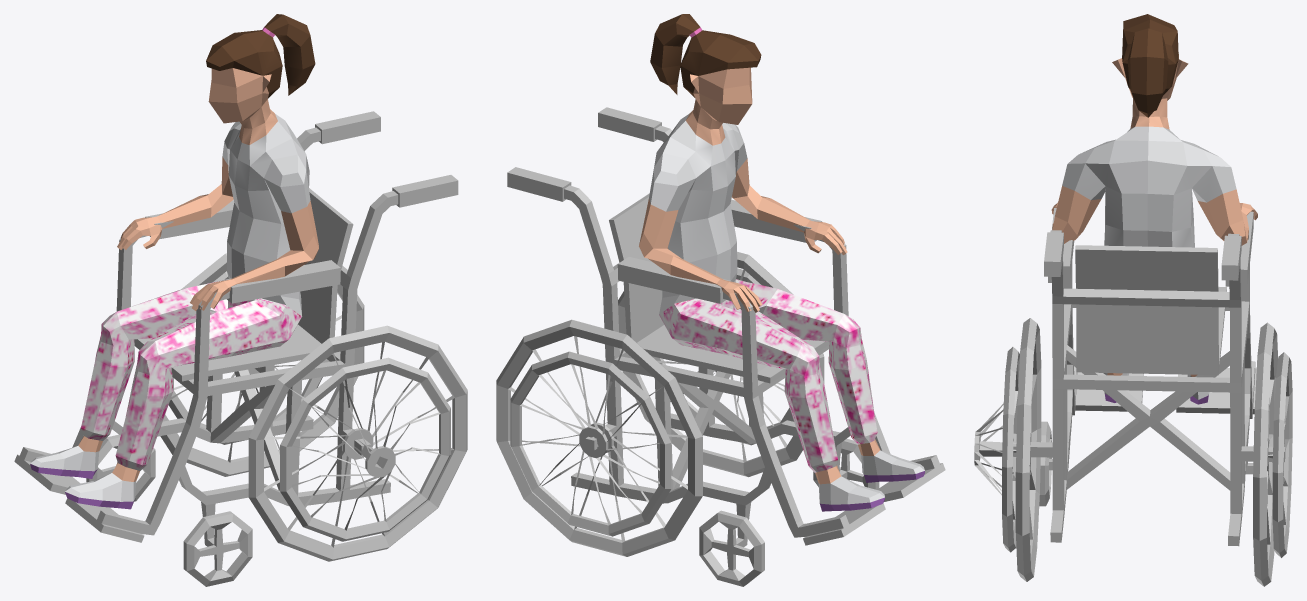
Rendered from Disabled People4.fbx.
3 views of the same model, side by side, from view 1: azimuth 30°, elevation 25°; view 2: azimuth 150°, elevation 25°; view 3: azimuth 270°, elevation 25° (orthographic). The views are drawn at different scales.
Visible parts, largest first — view 1: OfficeManA.003; view 2: OfficeManA.003; view 3: OfficeManA.003.
Boxes of the visible parts, box(x1,y1,x2,y2) form: OfficeManA.003: box(14, 14, 467, 586); OfficeManA.003: box(496, 14, 945, 586); OfficeManA.003: box(974, 14, 1292, 586).
Bounding box in the file's own units: 86.67 × 114 × 62.19.
